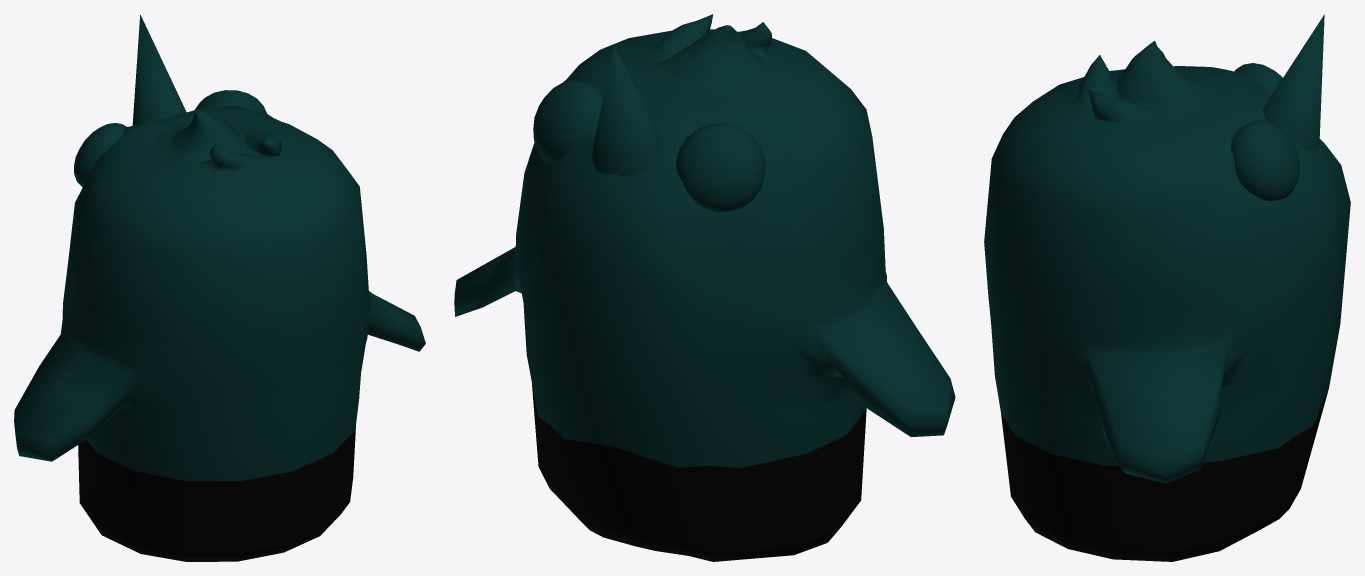
The model's file is penguin monument v3.fbx.
The picture shows the model from 3 angles, left to right: view 1: azimuth 30°, elevation 25°; view 2: azimuth 150°, elevation 25°; view 3: azimuth 270°, elevation 25°; orthographic projection. The views are drawn at different scales.
Visible parts, largest first — view 1: Penguin; view 2: Penguin; view 3: Penguin.
Boxes of the visible parts, x1=… form: Penguin: x1=14, y1=15, x2=425, y2=561; Penguin: x1=454, y1=14, x2=955, y2=561; Penguin: x1=984, y1=14, x2=1350, y2=561.
Size of the model in its own units: 3.06 by 3.19 by 2.14.
